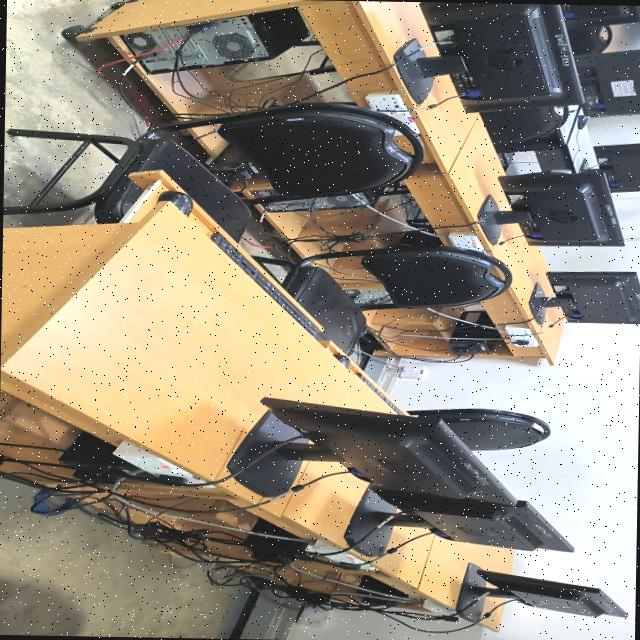Chair: (2, 102, 422, 240), (251, 244, 510, 353), (407, 409, 549, 450), (479, 106, 566, 143), (566, 25, 608, 55)
Cpu: (177, 8, 308, 70), (246, 187, 384, 211), (120, 25, 184, 53), (141, 45, 176, 73), (344, 288, 390, 307)
Keyboard: (209, 233, 322, 336)
Monitor: (226, 397, 514, 504), (393, 2, 584, 112), (344, 485, 572, 555), (475, 169, 623, 245), (456, 563, 625, 622), (528, 272, 640, 324), (574, 49, 640, 116), (594, 143, 640, 191), (561, 4, 640, 30)
Mouse: (157, 191, 191, 215), (332, 355, 349, 368)
